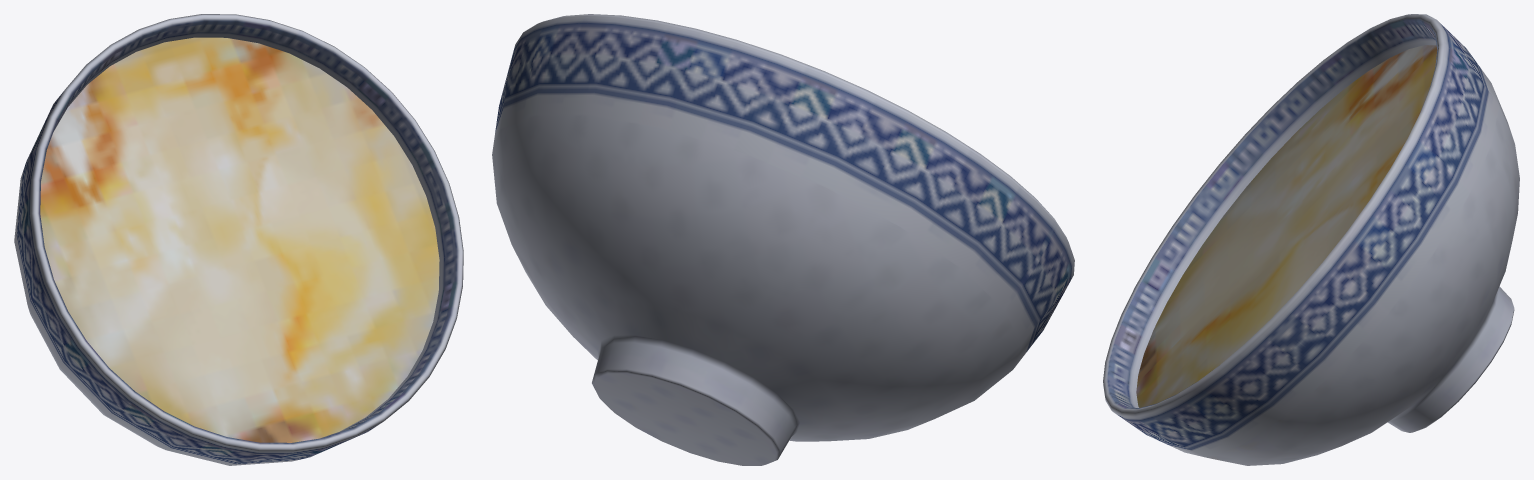
The model's file is BFTofuPudding.obj.
3 renders of one model, left to right at view 1: azimuth 30°, elevation 25°; view 2: azimuth 150°, elevation 25°; view 3: azimuth 270°, elevation 25°, orthographic. The views are drawn at different scales.
Visible parts, largest first — view 1: doufunao; view 2: doufunao; view 3: doufunao.
Boxes of the visible parts, x1,y1,x2,y2 form: doufunao: (14,14,463,465); doufunao: (492,14,1074,465); doufunao: (1103,14,1519,465).
Size of the model in its own units: 1.64 by 1.4 by 1.34.
